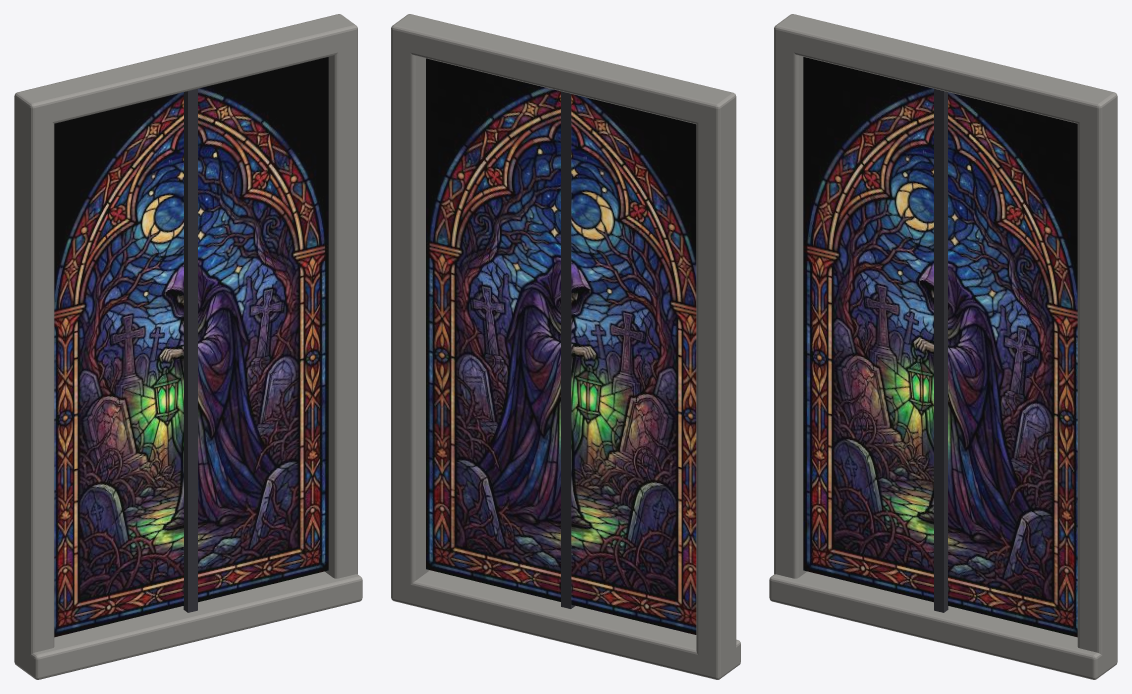
The model's file is art_glass_hooded_lantern.glb.
The picture shows the model from 3 angles, left to right: view 1: azimuth 30°, elevation 25°; view 2: azimuth 150°, elevation 25°; view 3: azimuth 330°, elevation 25°; orthographic projection.
Visible parts, largest first — view 1: GD_art_glass_hooded_lantern__m0, GD_art_glass_hooded_lantern__m1, GD_art_glass_hooded_lantern__m2; view 2: GD_art_glass_hooded_lantern__m0, GD_art_glass_hooded_lantern__m1, GD_art_glass_hooded_lantern__m2; view 3: GD_art_glass_hooded_lantern__m0, GD_art_glass_hooded_lantern__m1, GD_art_glass_hooded_lantern__m2.
Part boxes in pixels (<box>): GD_art_glass_hooded_lantern__m0: <box>54,57,328,637</box>; GD_art_glass_hooded_lantern__m1: <box>14,14,362,679</box>; GD_art_glass_hooded_lantern__m2: <box>183,88,197,612</box>; GD_art_glass_hooded_lantern__m0: <box>426,58,696,634</box>; GD_art_glass_hooded_lantern__m1: <box>391,14,740,679</box>; GD_art_glass_hooded_lantern__m2: <box>561,91,575,608</box>; GD_art_glass_hooded_lantern__m0: <box>803,57,1077,637</box>; GD_art_glass_hooded_lantern__m1: <box>769,14,1117,679</box>; GD_art_glass_hooded_lantern__m2: <box>934,88,948,612</box>.
Size of the model in its own units: 0.82 by 1.37 by 0.1.
3 materials, 1 textured.
